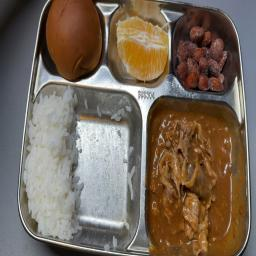100_bread: (45, 0, 102, 80)
100_nuts: (175, 18, 225, 94)
100_orange: (111, 6, 170, 85)
50_rice: (23, 85, 132, 248)
75_beef: (149, 108, 238, 250)
